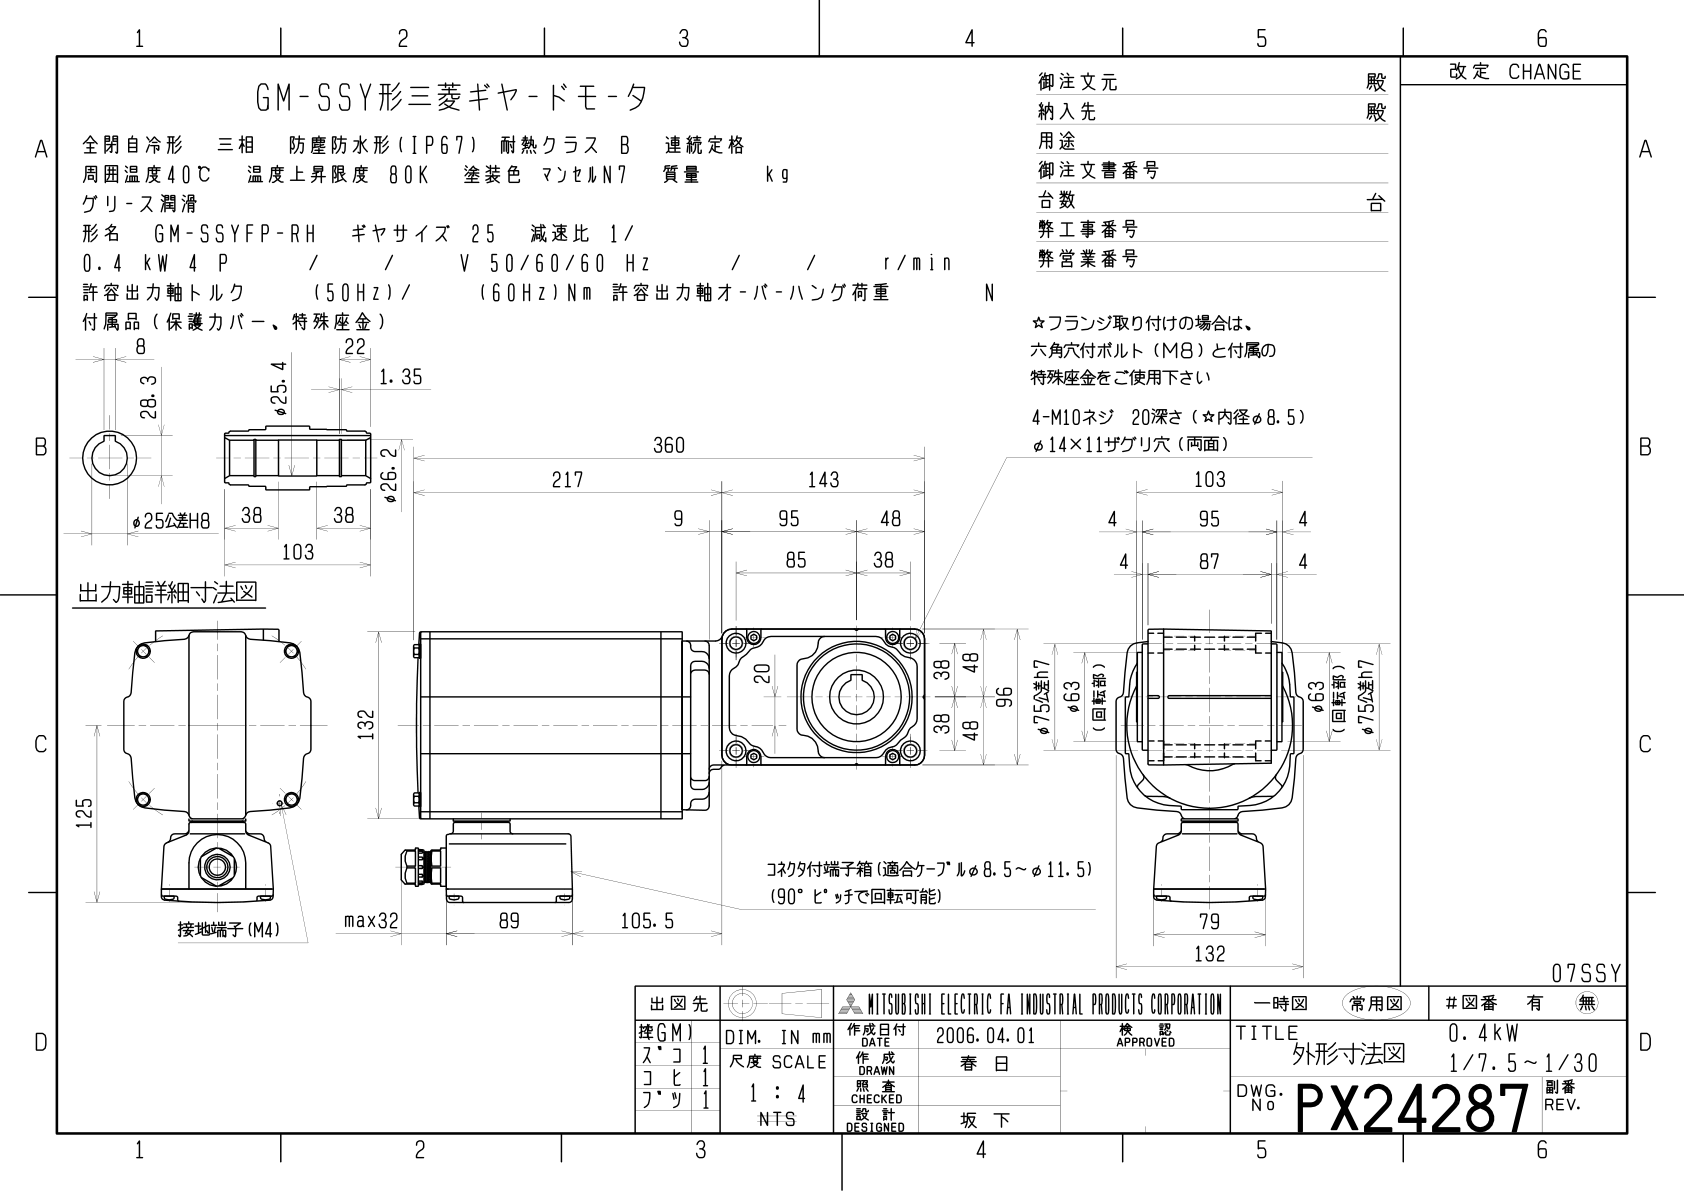GM_SSY_IP67_三相: (1, 1, 1678, 1176)
